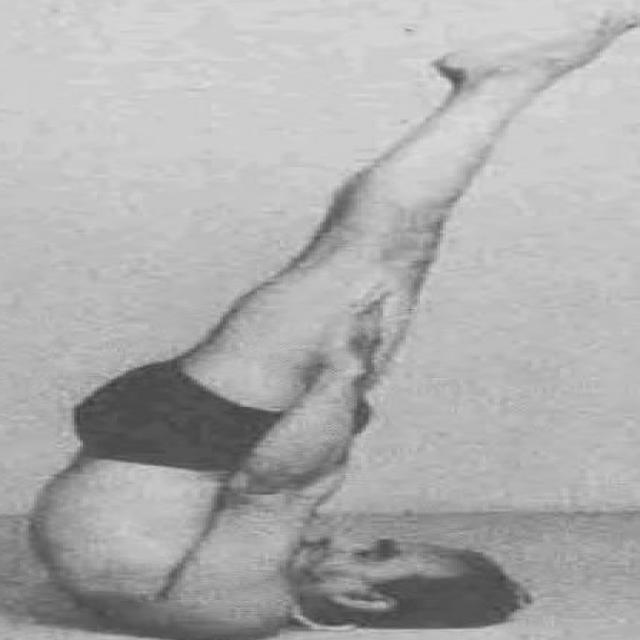yoga-pose shoulderstand: (16, 0, 640, 625)
